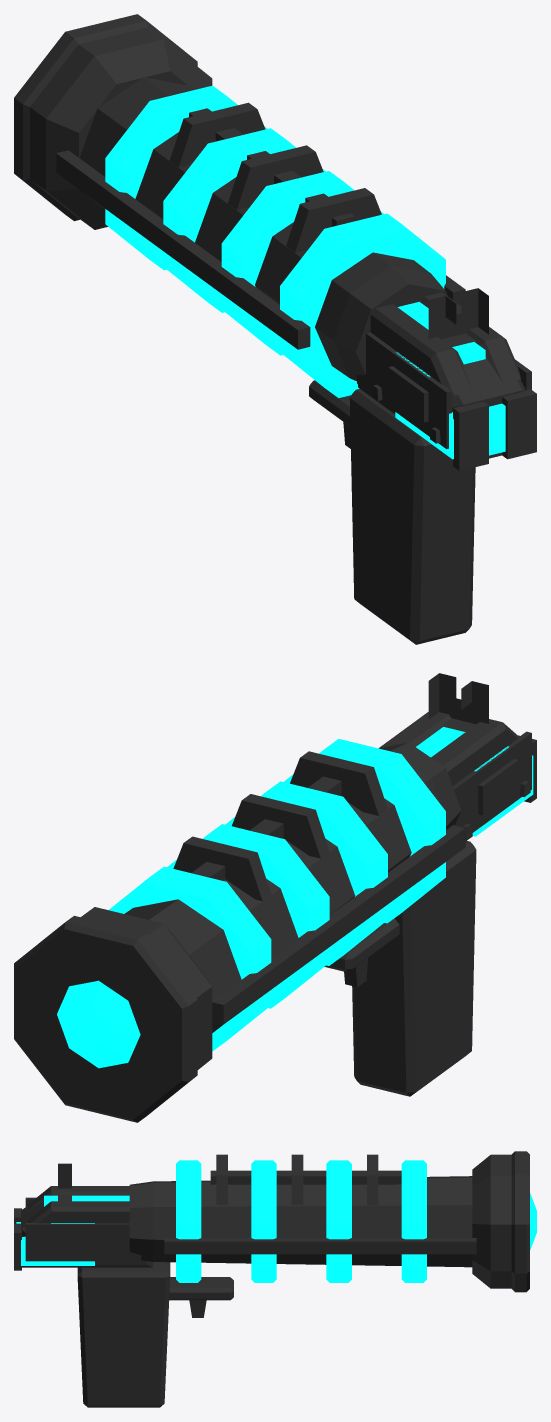
Rendered from beam.glb.
The picture shows the model from 3 angles, top to bottom: view 1: azimuth 30°, elevation 25°; view 2: azimuth 150°, elevation 25°; view 3: azimuth 270°, elevation 25°; orthographic projection. The views are drawn at different scales.
Parts seen in each view (by area): view 1: trim, frame, heat_vents, grip; view 2: trim, heat_vents, grip, frame, lens, heat_cell; view 3: frame, trim, grip, heat_vents, heat_cell.
Part boxes in pixels (x1,y1,x2,y2): trim: [14, 14, 536, 470]; frame: [30, 27, 525, 458]; heat_vents: [105, 85, 505, 455]; grip: [349, 389, 475, 644]; trim: [14, 673, 536, 1122]; heat_vents: [108, 727, 465, 1051]; grip: [352, 841, 476, 1096]; frame: [81, 742, 530, 1069]; lens: [57, 980, 140, 1068]; heat_cell: [472, 746, 533, 836]; frame: [21, 1154, 511, 1300]; trim: [14, 1151, 529, 1317]; grip: [77, 1262, 170, 1407]; heat_vents: [16, 1160, 426, 1282]; heat_cell: [21, 1223, 94, 1265].
Bounding box in the file's own units: 0.1127 × 0.2264 × 0.452.
